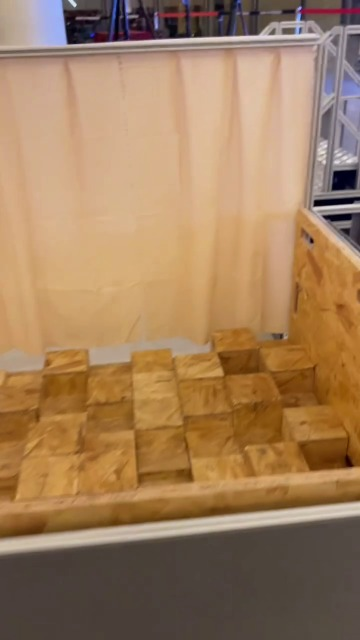curtain: (7, 38, 317, 339)
